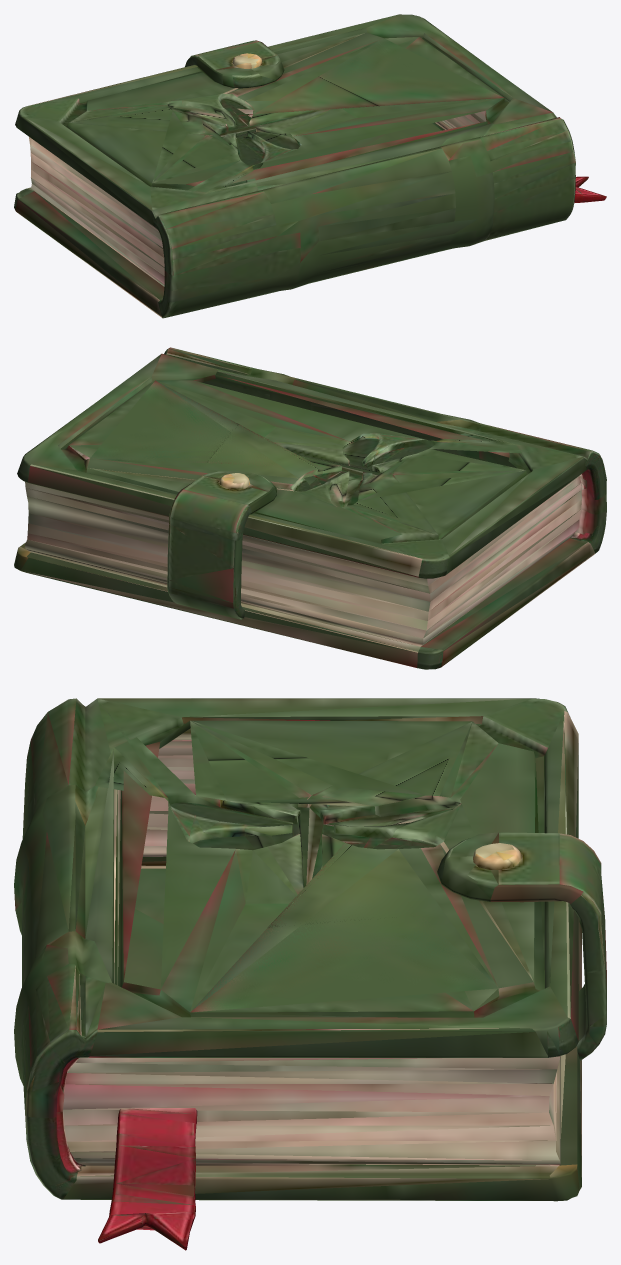
The model's file is item-diary.glb.
The picture shows the model from 3 angles, top to bottom: view 1: azimuth 30°, elevation 25°; view 2: azimuth 150°, elevation 25°; view 3: azimuth 270°, elevation 25°; orthographic projection. The views are drawn at different scales.
Size of the model in its own units: 0.9575 by 0.2285 by 0.625.
Materials: 1 (1 with a texture image).
